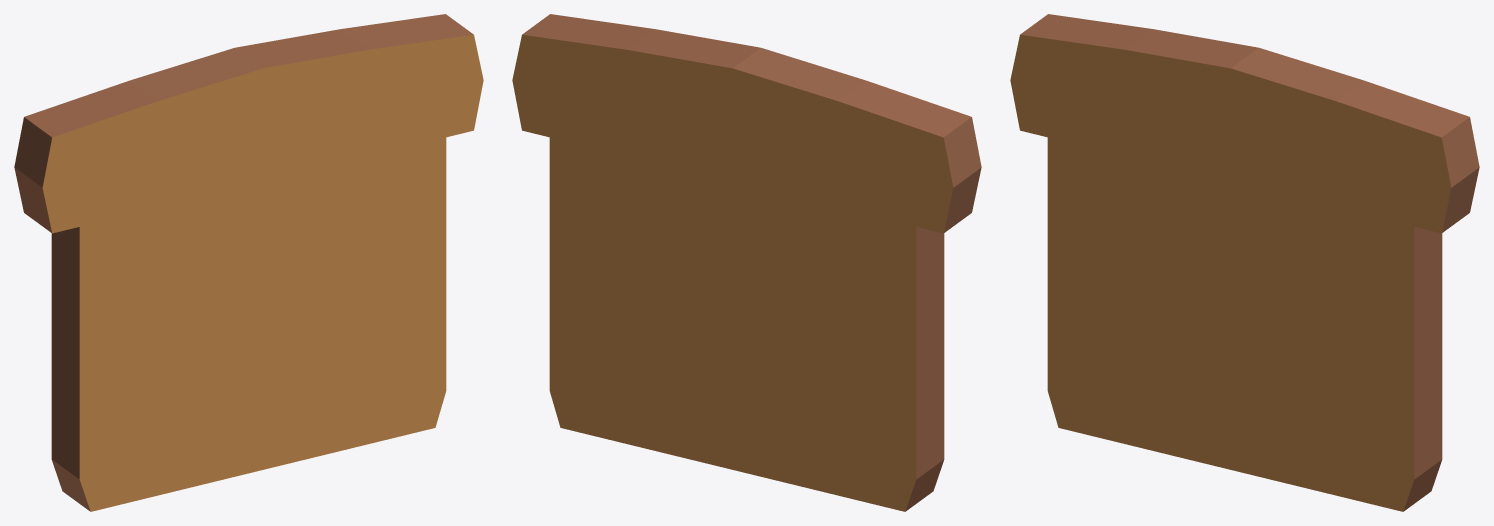
Rendered from sliceOfBread.fbx.
The picture shows the model from 3 angles, left to right: view 1: azimuth 30°, elevation 25°; view 2: azimuth 150°, elevation 25°; view 3: azimuth 330°, elevation 25°; orthographic projection.
Visible parts, largest first — view 1: Plane; view 2: Plane; view 3: Plane.
Boxes of the visible parts, left/top/right/bottom form: Plane: left=14, top=14, right=483, bottom=511; Plane: left=512, top=14, right=981, bottom=511; Plane: left=1010, top=14, right=1479, bottom=511.
Size of the model in its own units: 2.41 by 2.09 by 0.2669.
